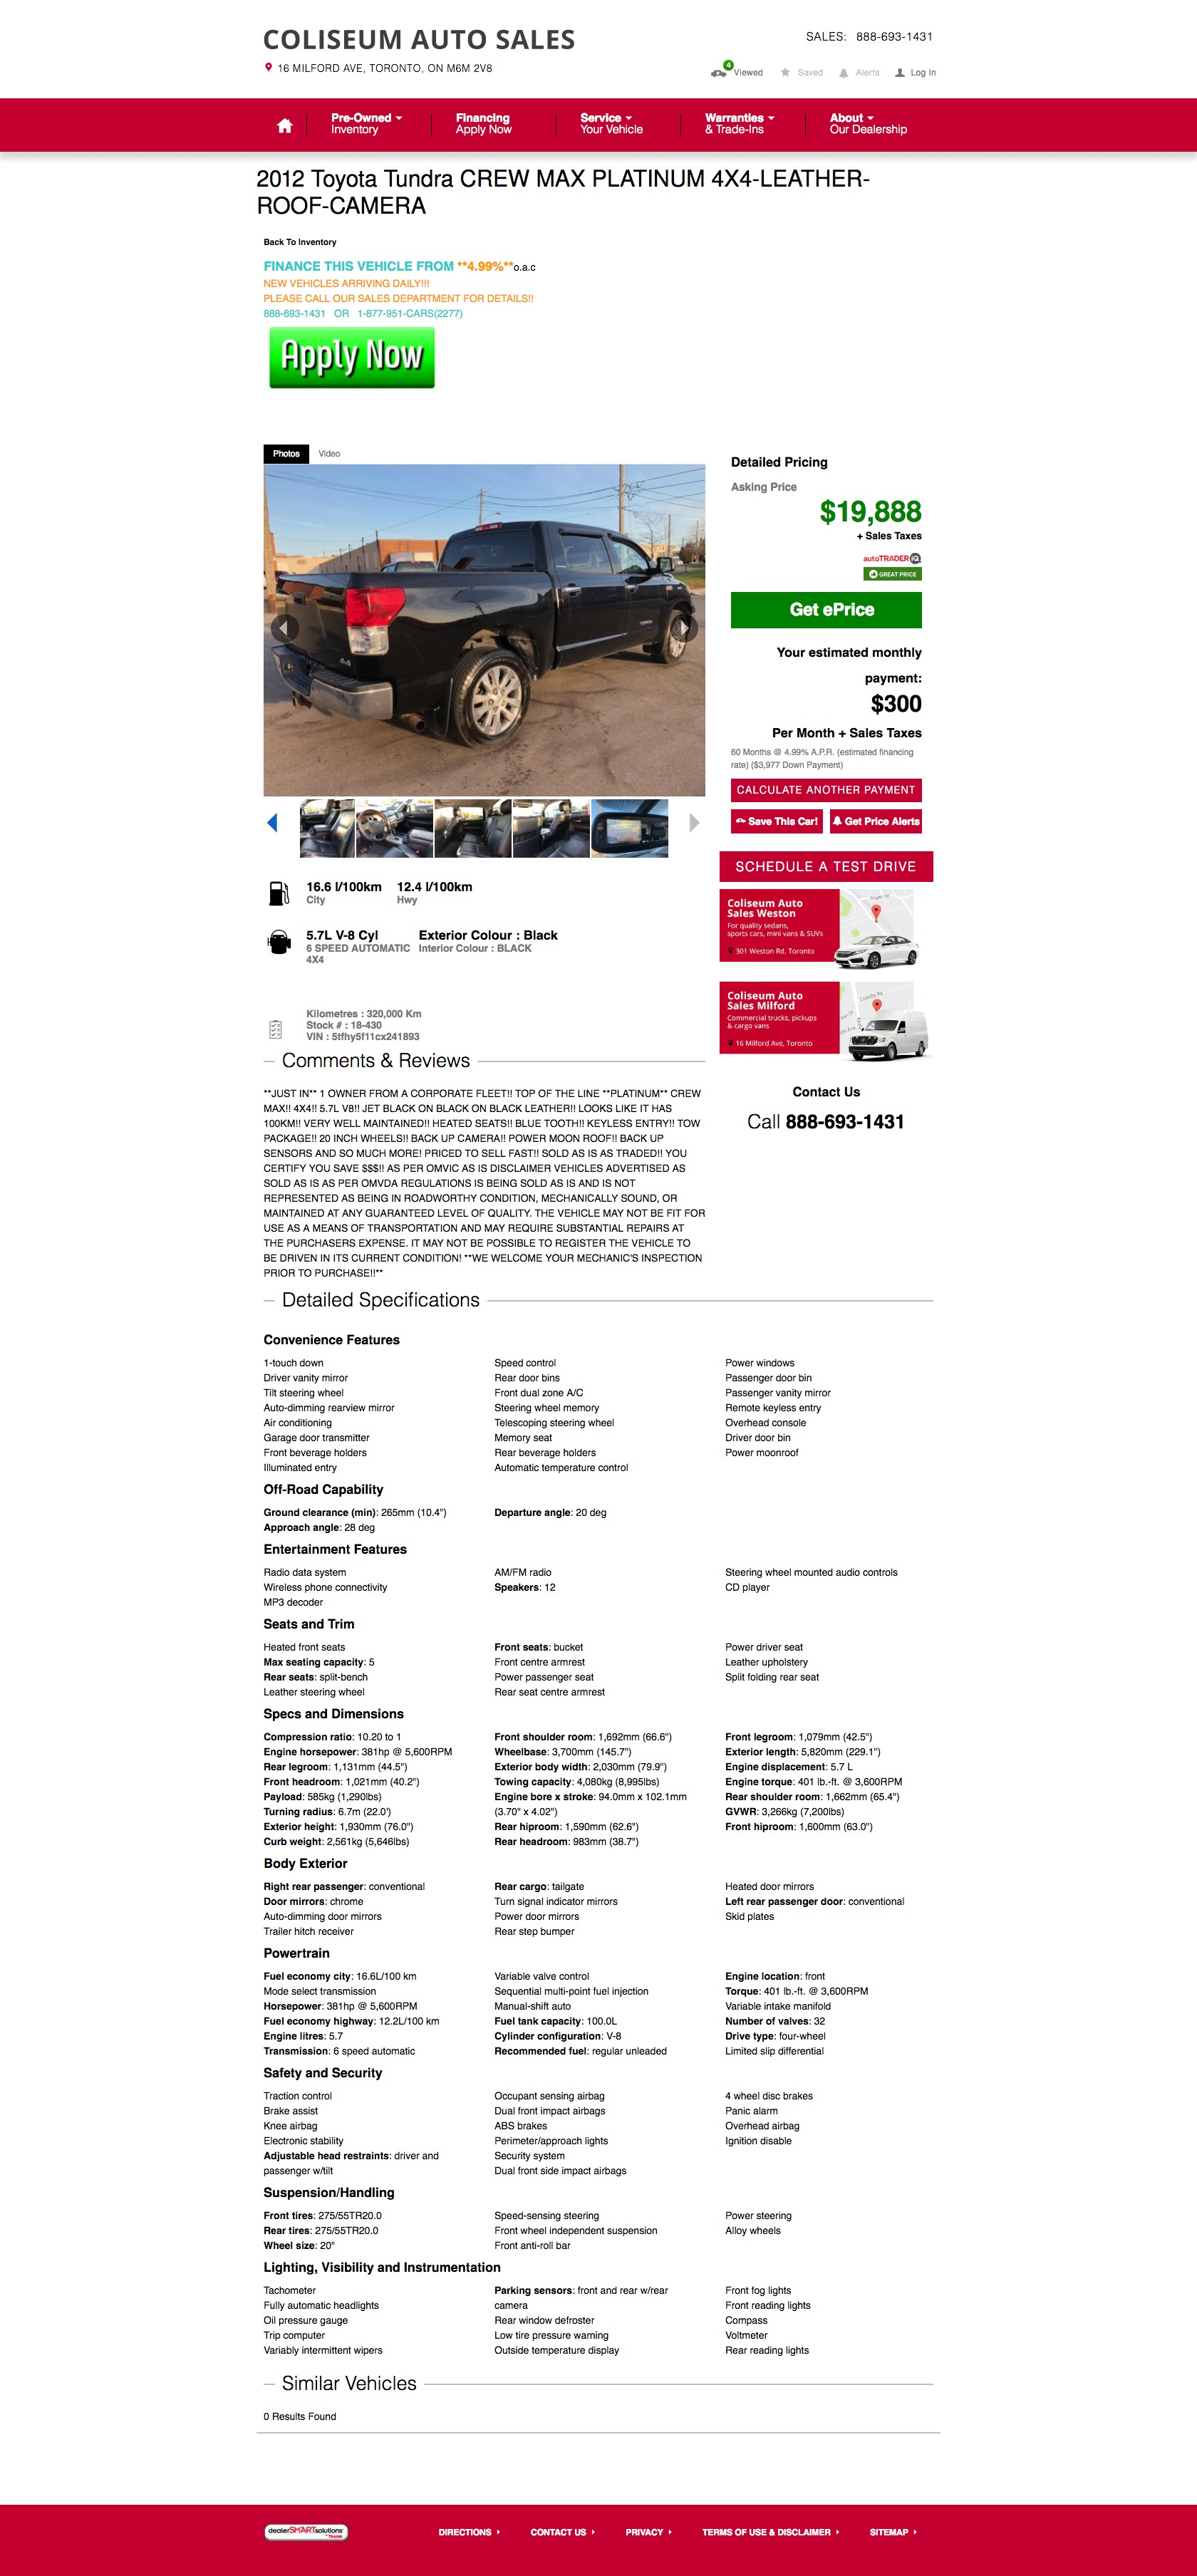car: (689, 813, 700, 833)
